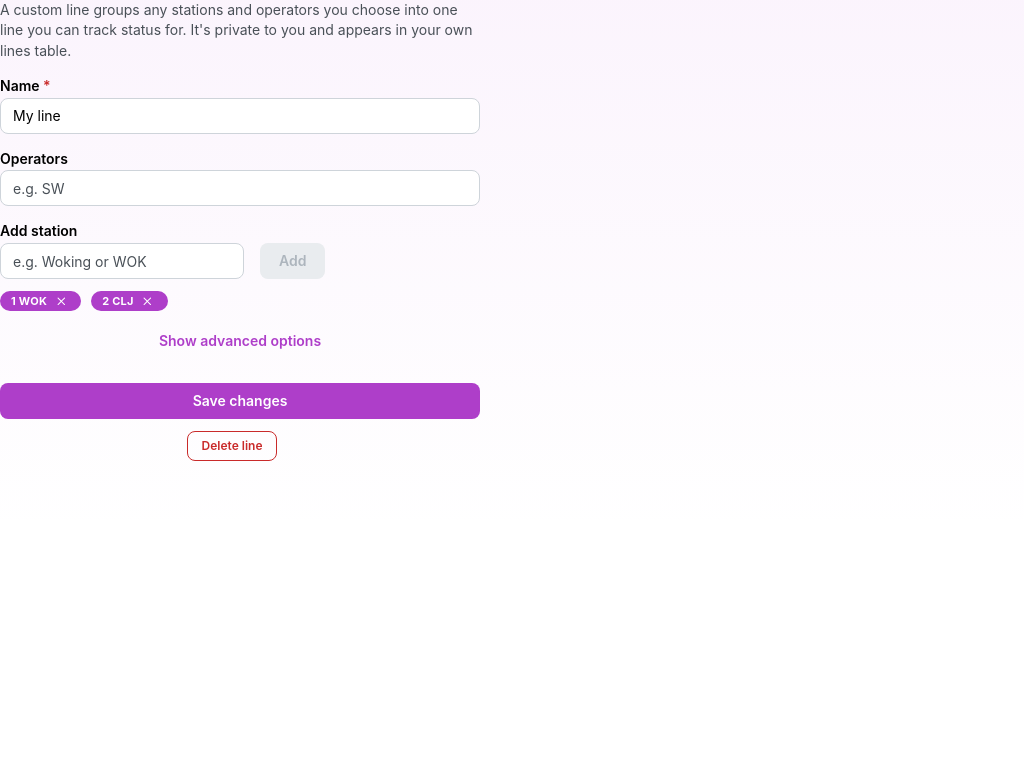
Test: CustomLineForm › a 401 on save shows the login prompt modal instead of the raw backend error text
Click the button "Save changes". click: click(240, 401)
box: left=0, top=383, right=480, bottom=419
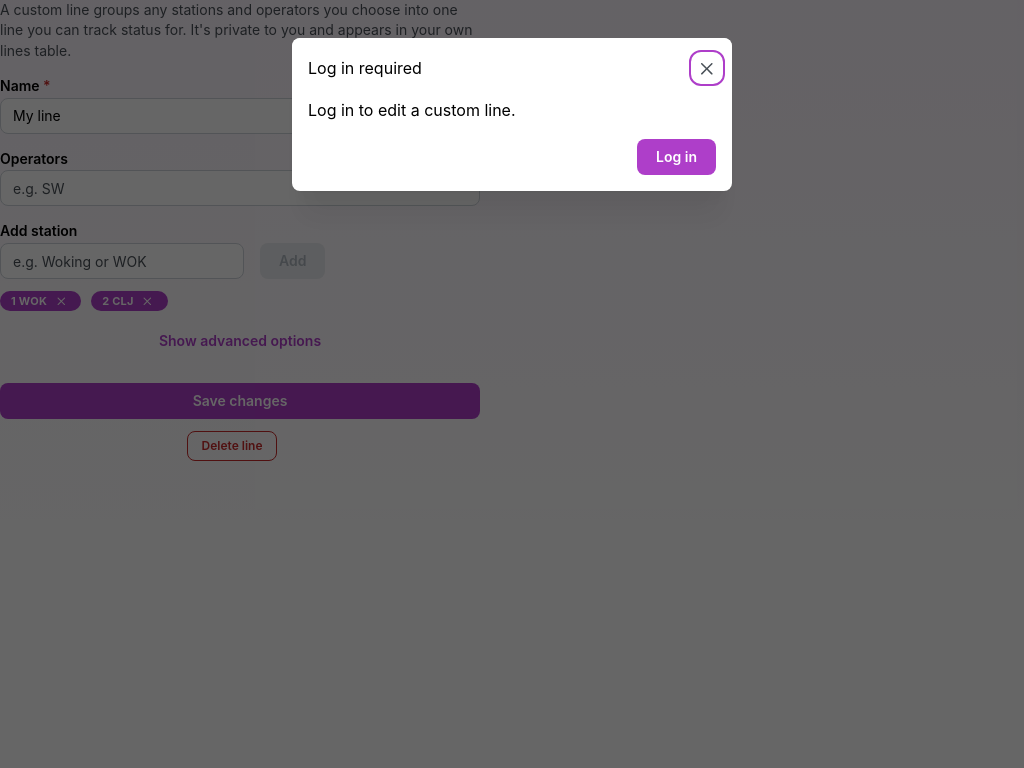
Expected: the text "Log in to edit a custom line." is shown, left=308, top=100, right=516, bottom=120
